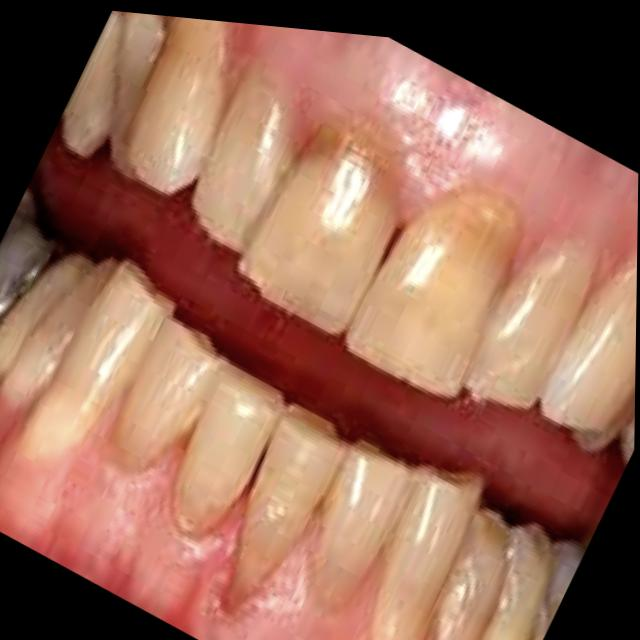tooth-discoloration: (349, 194, 518, 395), (18, 262, 173, 459), (243, 145, 398, 334), (231, 405, 346, 605), (468, 241, 595, 407), (122, 17, 228, 193), (175, 364, 284, 532), (373, 473, 482, 640), (195, 70, 295, 251), (543, 259, 637, 431), (313, 443, 412, 605), (116, 318, 218, 467), (435, 509, 511, 640), (484, 526, 552, 640), (0, 192, 57, 320)
